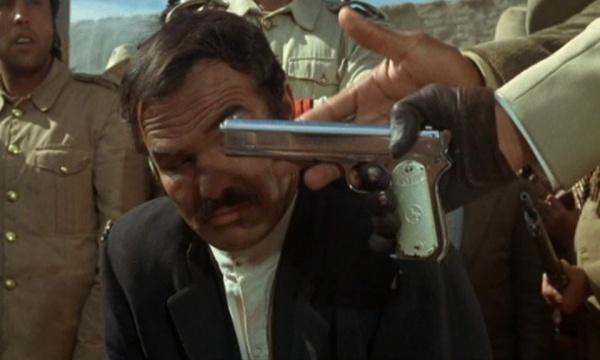Gun: (220, 118, 451, 268)
